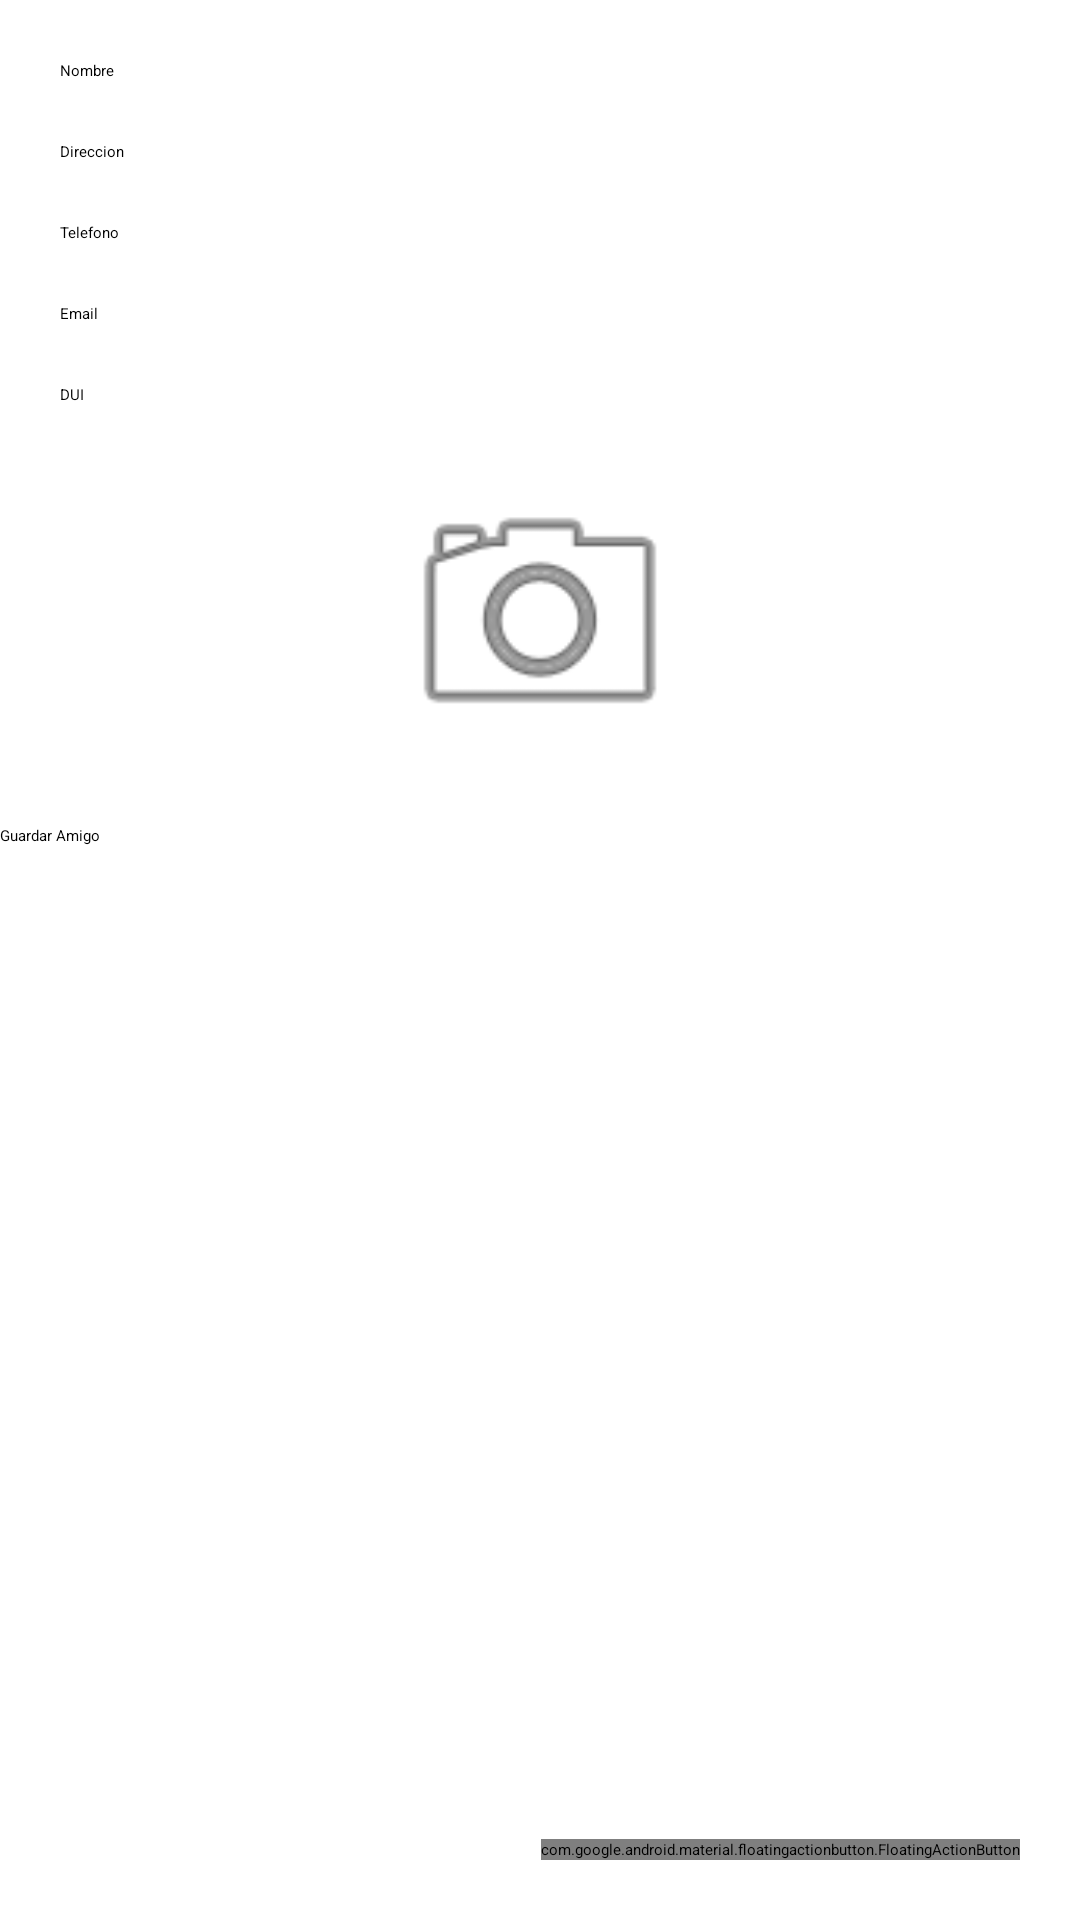

Locate icon controls on the screen. Image size 1080w x 1920h, boxes as (x1, y1, x2, y2).
camera: (424, 518, 656, 703)
